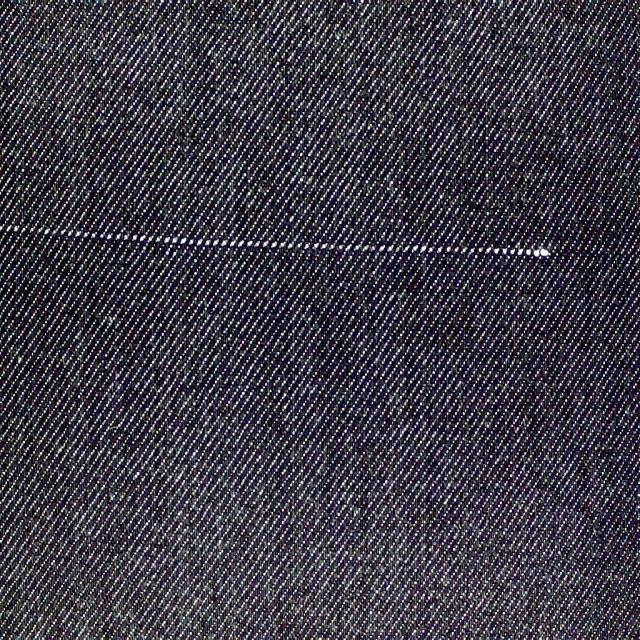Line: (0, 222, 556, 259)
